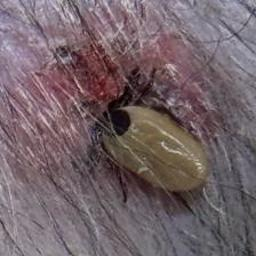Ixodes scapularis: (92, 67, 207, 201)
